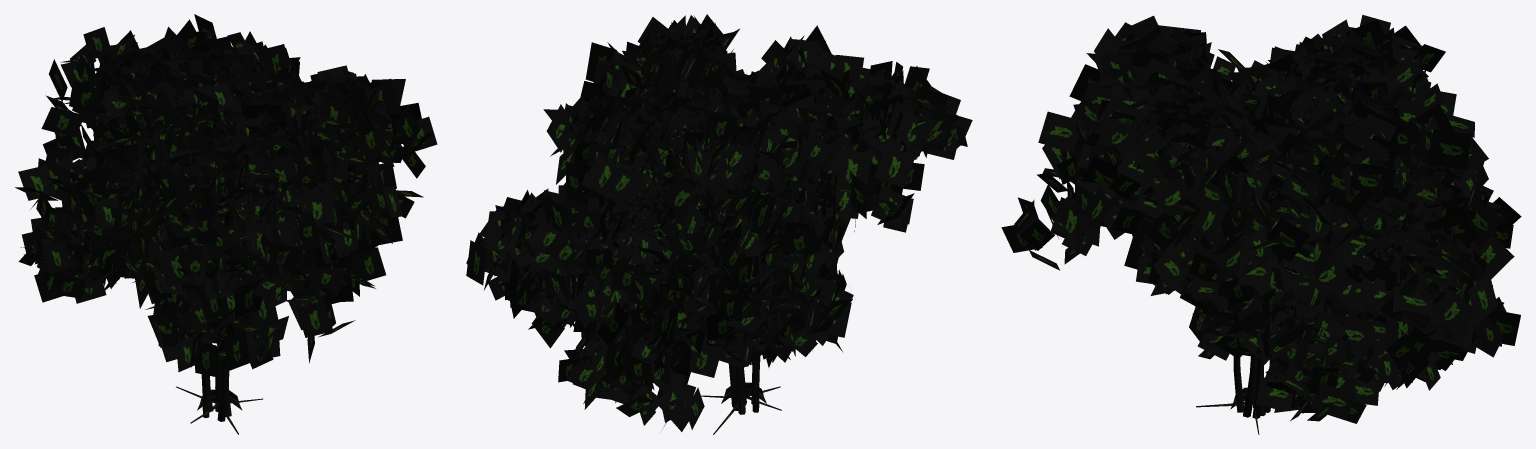
Rendered from Shrub_Spicebush_1.glb.
3 renders of one model, left to right at view 1: azimuth 30°, elevation 25°; view 2: azimuth 150°, elevation 25°; view 3: azimuth 270°, elevation 25°, orthographic. The views are drawn at different scales.
Visible parts, largest first — view 1: Shrub_Spicebush_1; view 2: Shrub_Spicebush_1; view 3: Shrub_Spicebush_1.
Part boxes in pixels (x1,y1,x2,y2): Shrub_Spicebush_1: (15,14,437,434); Shrub_Spicebush_1: (466,14,972,434); Shrub_Spicebush_1: (1001,14,1521,434).
Size of the model in its own units: 3.35 by 3 by 3.94.
Materials: 1 (1 with a texture image).
